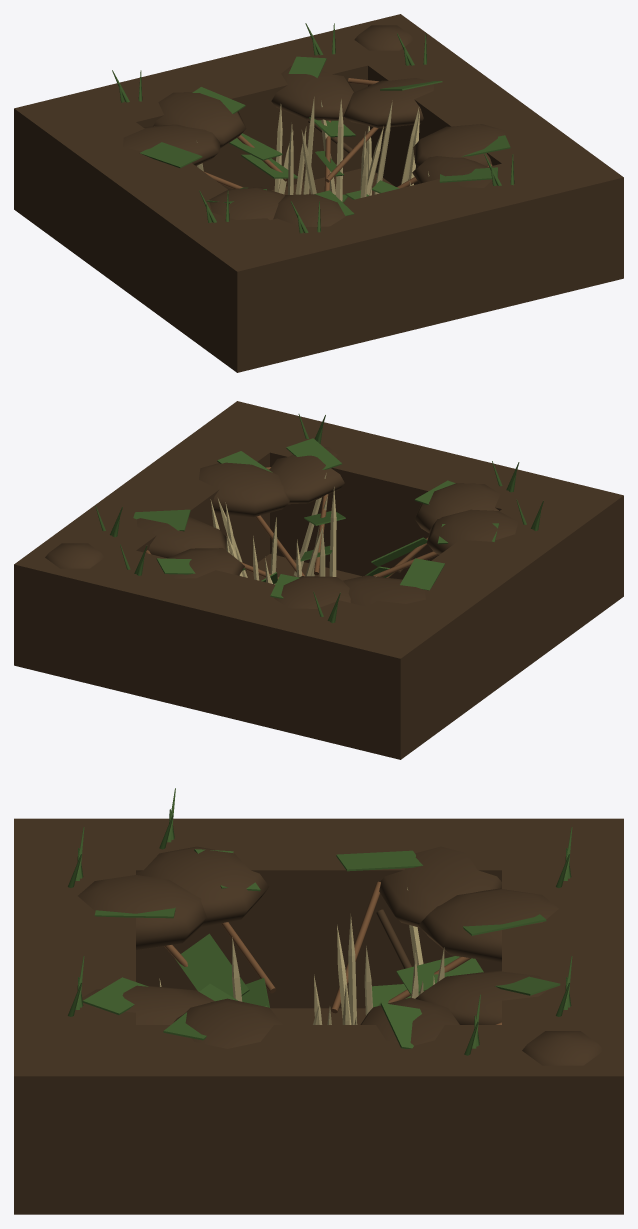
Rendered from punji-stake-trap.glb.
3 renders of one model, top to bottom at view 1: azimuth 30°, elevation 25°; view 2: azimuth 150°, elevation 25°; view 3: azimuth 270°, elevation 25°, orthographic. The views are drawn at different scales.
Parts seen in each view (by area): view 1: Mesh_WallFront, Mesh_WallBack, Mesh_WallRight, Mesh_WallLeft, Mesh_RimMound_4, Mesh_RimMound_0, Mesh_RimMound_1, Mesh_RimMound_5, Mesh_RimMound_6, Mesh_RimMound_7, Mesh_RimMound_3, Mesh_RimMound_2 (+8 smaller); view 2: Mesh_WallBack, Mesh_WallFront, Mesh_WallRight, Mesh_WallLeft, Mesh_RimMound_5, Mesh_RimMound_2, Mesh_RimMound_7, Mesh_RimMound_3, Mesh_RimMound_4, Mesh_RimMound_1, Mesh_RimMound_6, Mesh_RimMound_0 (+7 smaller); view 3: Mesh_WallLeft, Mesh_WallFront, Mesh_WallBack, Mesh_WallRight, Mesh_RimMound_1, Mesh_RimMound_7, Mesh_RimMound_3, Mesh_RimMound_6, Mesh_RimMound_0, Mesh_RimMound_5, Mesh_RimMound_2, Mesh_Clod_0 (+12 smaller).
Part boxes in pixels (x1,y1,x2,y2): Mesh_WallFront: [192, 145, 623, 372]; Mesh_WallBack: [14, 14, 444, 241]; Mesh_WallRight: [58, 122, 269, 339]; Mesh_WallLeft: [368, 46, 578, 186]; Mesh_RimMound_4: [343, 78, 434, 128]; Mesh_RimMound_0: [271, 66, 354, 120]; Mesh_RimMound_1: [153, 92, 246, 148]; Mesh_RimMound_5: [413, 124, 505, 166]; Mesh_RimMound_6: [122, 124, 220, 165]; Mesh_RimMound_7: [209, 187, 284, 219]; Mesh_RimMound_3: [273, 194, 345, 226]; Mesh_RimMound_2: [412, 156, 491, 187]; Mesh_WallBack: [14, 532, 445, 759]; Mesh_WallFront: [193, 401, 623, 628]; Mesh_WallRight: [368, 509, 579, 726]; Mesh_WallLeft: [59, 433, 269, 570]; Mesh_RimMound_5: [199, 462, 289, 517]; Mesh_RimMound_2: [269, 447, 344, 504]; Mesh_RimMound_7: [427, 509, 518, 554]; Mesh_RimMound_3: [414, 483, 500, 532]; Mesh_RimMound_4: [136, 516, 226, 558]; Mesh_RimMound_1: [274, 576, 350, 608]; Mesh_RimMound_6: [343, 575, 425, 606]; Mesh_RimMound_0: [168, 548, 244, 578]; Mesh_WallLeft: [136, 1025, 501, 1214]; Mesh_WallFront: [14, 818, 135, 1214]; Mesh_WallBack: [502, 818, 623, 1214]; Mesh_WallRight: [136, 818, 501, 1008]; Mesh_RimMound_1: [418, 888, 558, 962]; Mesh_RimMound_7: [136, 846, 269, 926]; Mesh_RimMound_3: [78, 875, 206, 949]; Mesh_RimMound_6: [379, 846, 501, 927]; Mesh_RimMound_0: [415, 970, 548, 1024]; Mesh_RimMound_5: [173, 998, 282, 1048]; Mesh_RimMound_2: [82, 985, 214, 1024]; Mesh_Clod_0: [522, 1031, 603, 1065].
Size of what is drawn, in the model's own units: 2 by 0.7114 by 2.
